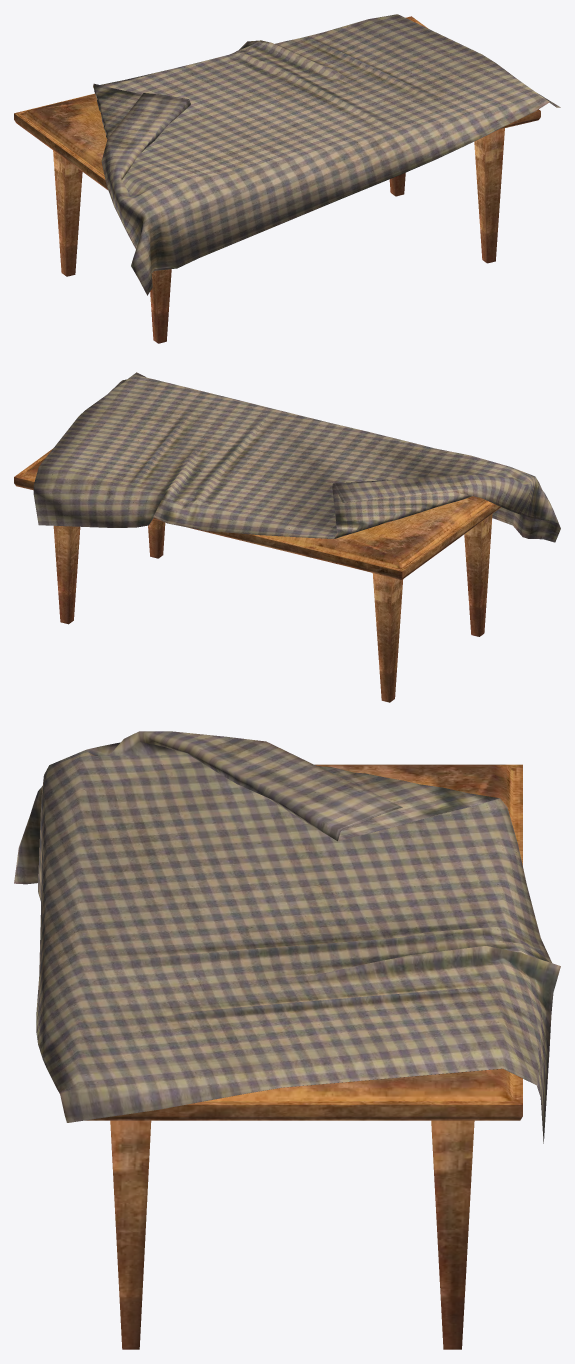
The model's file is dining_table.glb.
3 renders of one model, top to bottom at view 1: azimuth 30°, elevation 25°; view 2: azimuth 150°, elevation 25°; view 3: azimuth 270°, elevation 25°, orthographic. The views are drawn at different scales.
Visible parts, largest first — view 1: dining_table_cloth, dining_table; view 2: dining_table_cloth, dining_table; view 3: dining_table_cloth, dining_table.
Part boxes in pixels (x1,y1,x2,y2): dining_table_cloth: [93, 14, 560, 295]; dining_table: [14, 16, 540, 343]; dining_table_cloth: [33, 372, 560, 542]; dining_table: [14, 448, 501, 702]; dining_table_cloth: [14, 731, 560, 1143]; dining_table: [85, 764, 522, 1349].
Bounding box in the file's own units: 2.26 × 0.877 × 1.39.
1 material, 1 textured.
